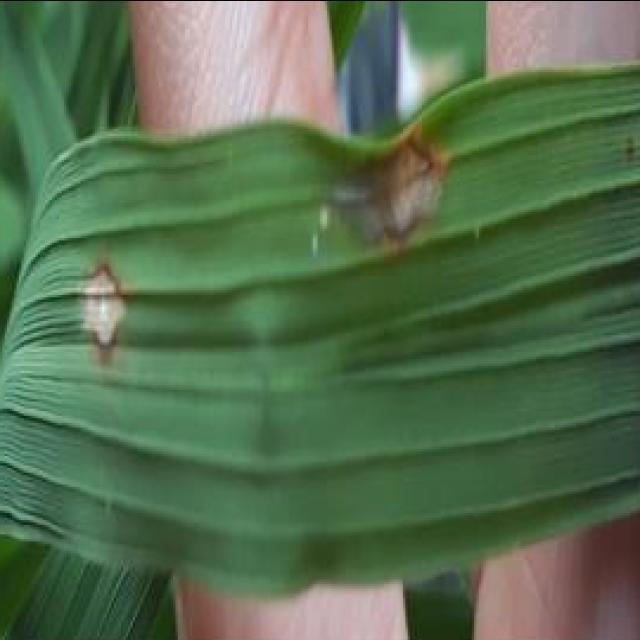Leaf_Blast: (302, 114, 498, 268), (64, 215, 170, 368)
